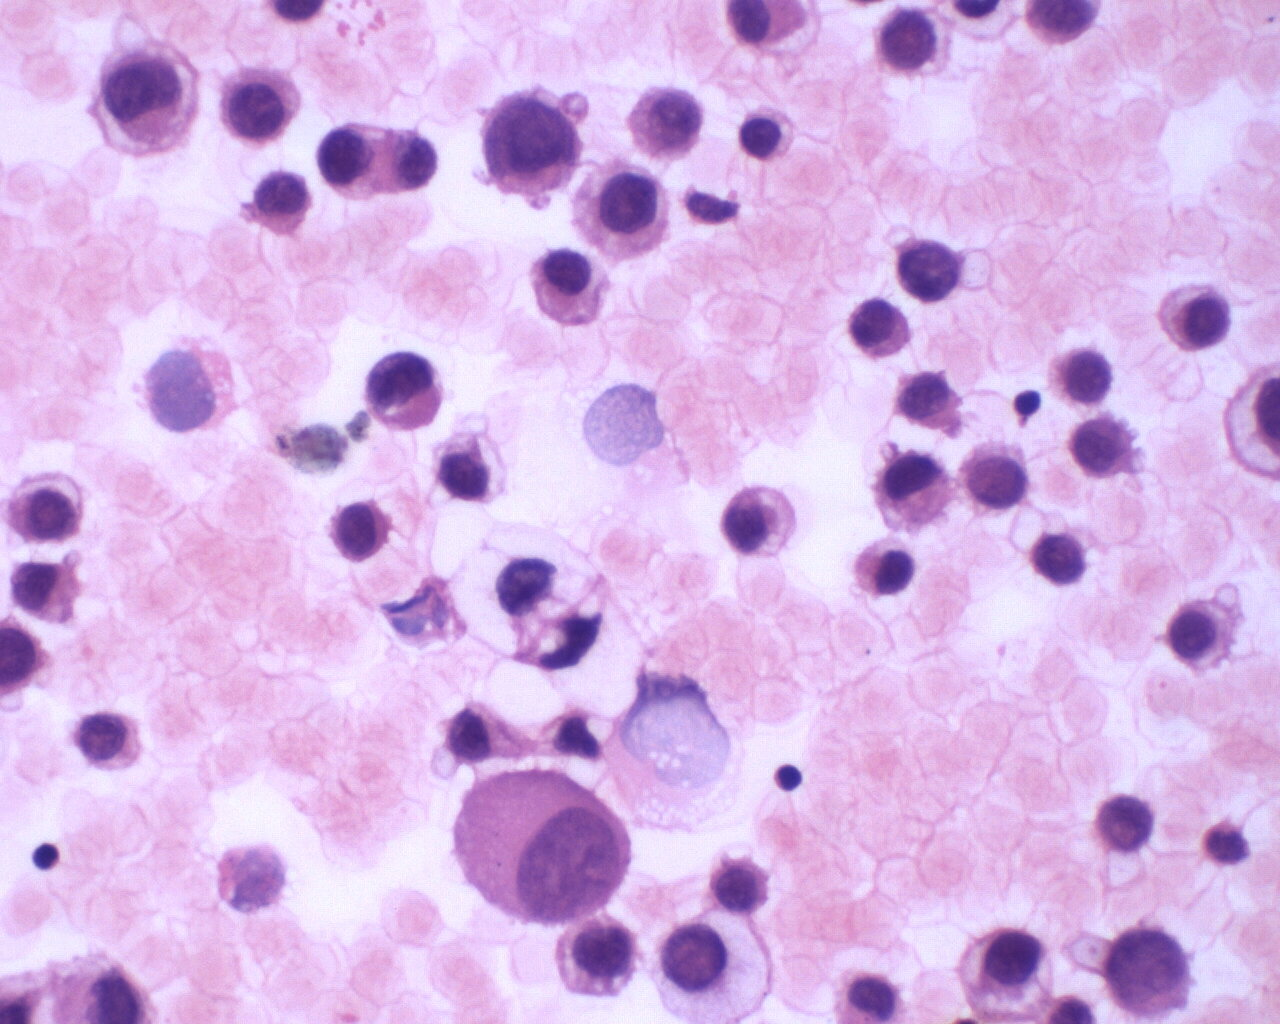ab: (452, 767, 633, 928), (470, 86, 589, 205), (1101, 922, 1196, 1017), (363, 348, 449, 437), (217, 63, 304, 149), (6, 467, 86, 550), (958, 436, 1034, 512), (844, 292, 916, 368), (1066, 412, 1145, 479), (74, 705, 145, 779), (894, 228, 960, 303), (1045, 343, 1116, 411), (324, 498, 396, 565), (709, 851, 774, 916)
lymph: (25, 835, 69, 879), (766, 759, 811, 796)
meso: (952, 921, 1064, 1024), (569, 156, 670, 262), (528, 245, 612, 328), (1157, 284, 1237, 355), (851, 534, 917, 600)
